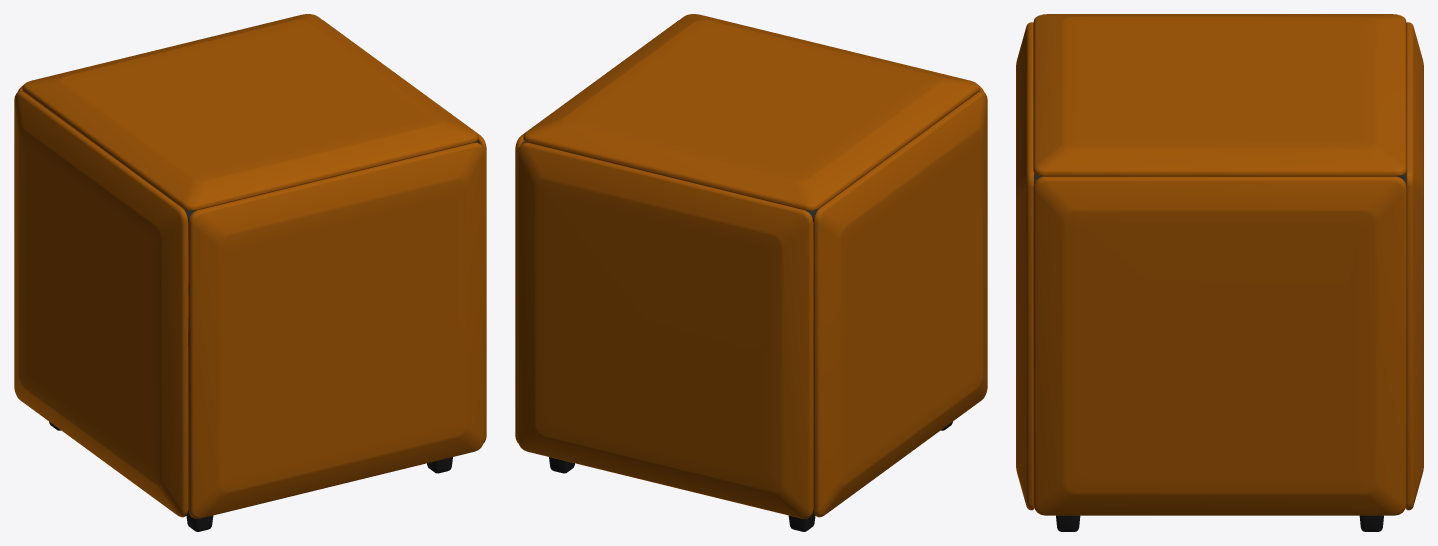
The model's file is 1_entry stool.fbx.
3 views of the same model, side by side, from view 1: azimuth 30°, elevation 25°; view 2: azimuth 150°, elevation 25°; view 3: azimuth 270°, elevation 25° (orthographic). The views are drawn at different scales.
Parts seen in each view (by area): view 1: Cube.003, Cube.001, Cube.005; view 2: Cube.003, Cube.001, Cube.005; view 3: Cube.003, Cube.001, Cube.005.
Part boxes in pixels (box(x1,y1,x2,y2)): Cube.003: box(14, 20, 486, 518); Cube.001: box(22, 14, 478, 345); Cube.005: box(49, 346, 452, 531); Cube.003: box(515, 20, 987, 518); Cube.001: box(523, 14, 979, 345); Cube.005: box(549, 346, 952, 531); Cube.003: box(1016, 22, 1423, 515); Cube.001: box(1033, 14, 1406, 176); Cube.005: box(1056, 515, 1383, 531).
Size of the model in its own units: 219 by 227 by 219.
